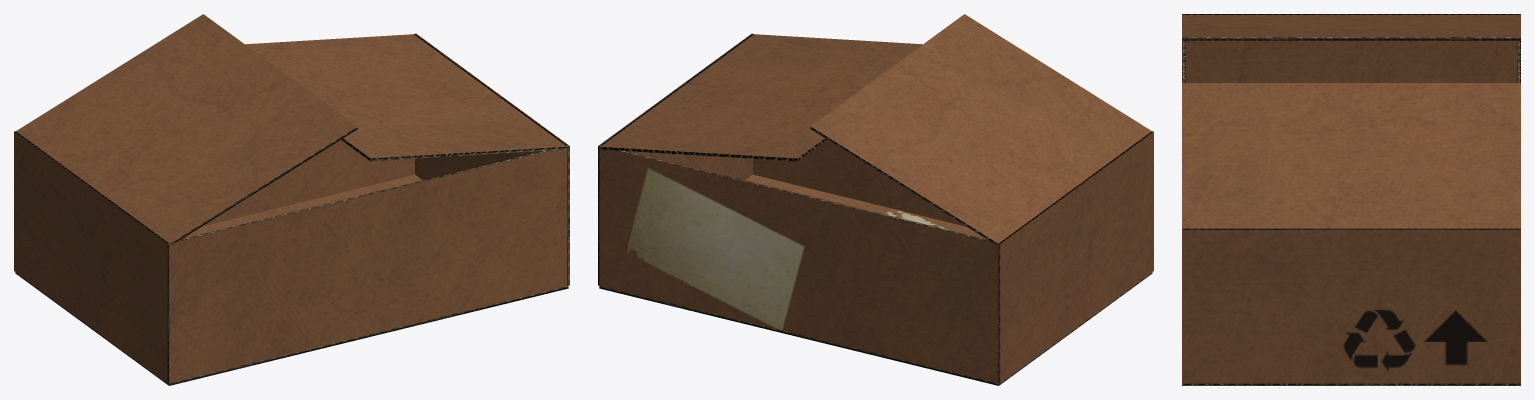
Rendered from lootapt2.fbx.
The picture shows the model from 3 angles, left to right: view 1: azimuth 30°, elevation 25°; view 2: azimuth 150°, elevation 25°; view 3: azimuth 270°, elevation 25°; orthographic projection. The views are drawn at different scales.
Visible parts, largest first — view 1: Cube_2, Cube_5, Cube_3, Cube_6, Cube_1, Cube, Cube_4; view 2: Cube_1, Cube_5, Cube_3, Cube_6, Cube_2, Cube, Cube_4; view 3: Cube_4, Cube_6, Cube_3, Cube_5, Cube.
Boxes of the visible parts, box(x1,y1,x2,y2) form: Cube_2: box(169, 145, 567, 382); Cube_5: box(16, 14, 357, 244); Cube_3: box(14, 131, 170, 383); Cube_6: box(245, 34, 567, 161); Cube_1: box(16, 34, 414, 226); Cube: box(15, 174, 568, 385); Cube_4: box(414, 33, 569, 285); Cube_1: box(599, 145, 998, 382); Cube_5: box(810, 14, 1151, 245); Cube_3: box(997, 131, 1153, 383); Cube_6: box(600, 34, 922, 161); Cube_2: box(753, 34, 1151, 226); Cube: box(599, 174, 1152, 385); Cube_4: box(598, 33, 753, 285); Cube_4: box(1182, 228, 1520, 383); Cube_6: box(1182, 83, 1520, 228); Cube_3: box(1182, 14, 1520, 82); Cube_5: box(1182, 15, 1520, 40); Cube: box(1182, 383, 1520, 385).
Bounding box in the file's own units: 30.2 × 15.32 × 20.
1 material, 1 textured.
